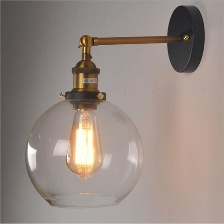light_bulb: (59, 98, 112, 183)
